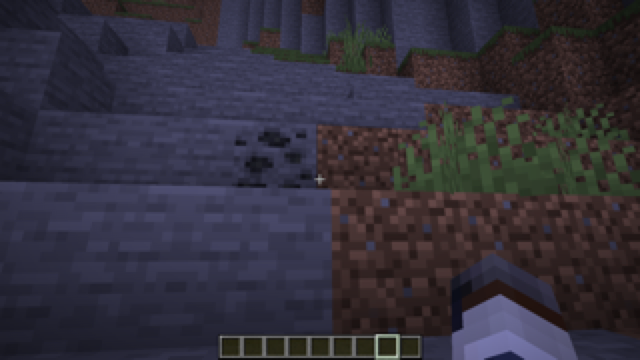coal: (233, 119, 317, 194)
